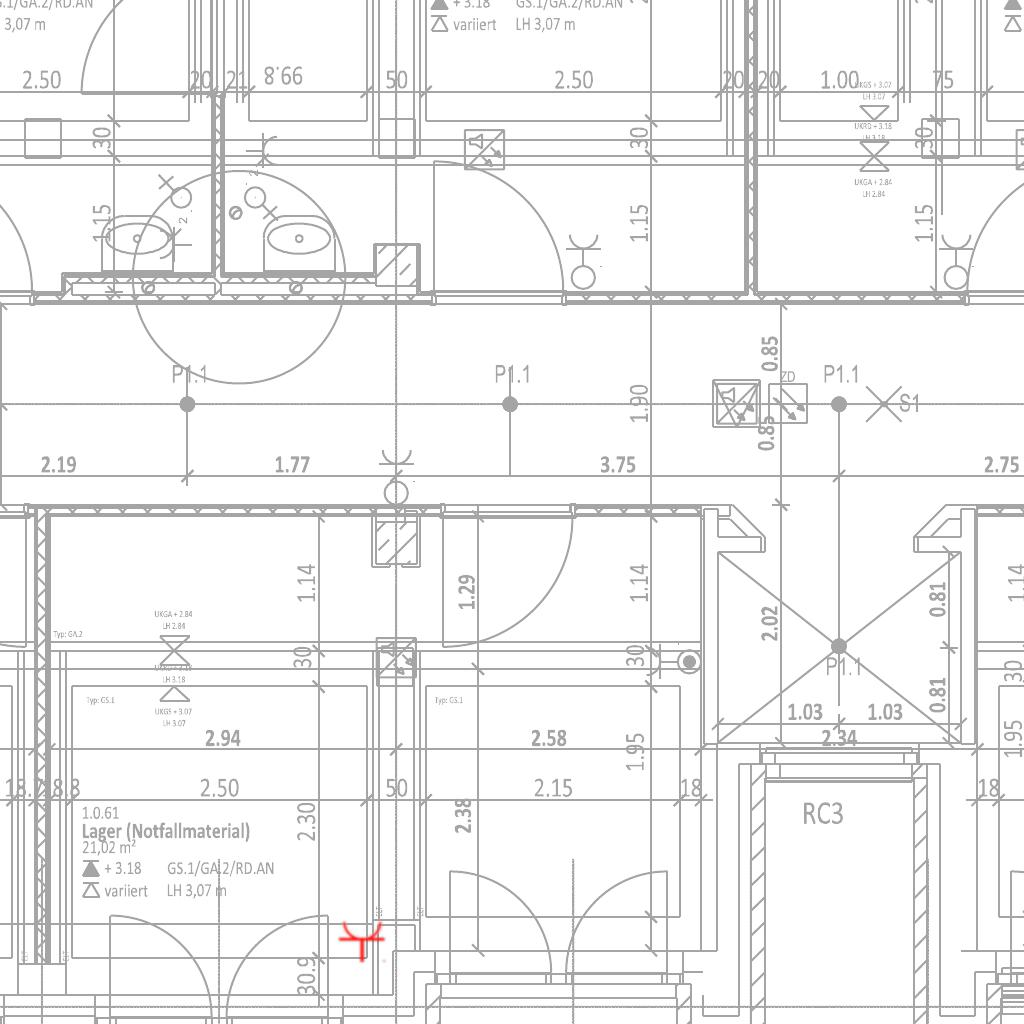Schukosteckdose_einfach: (338, 920, 388, 963)
